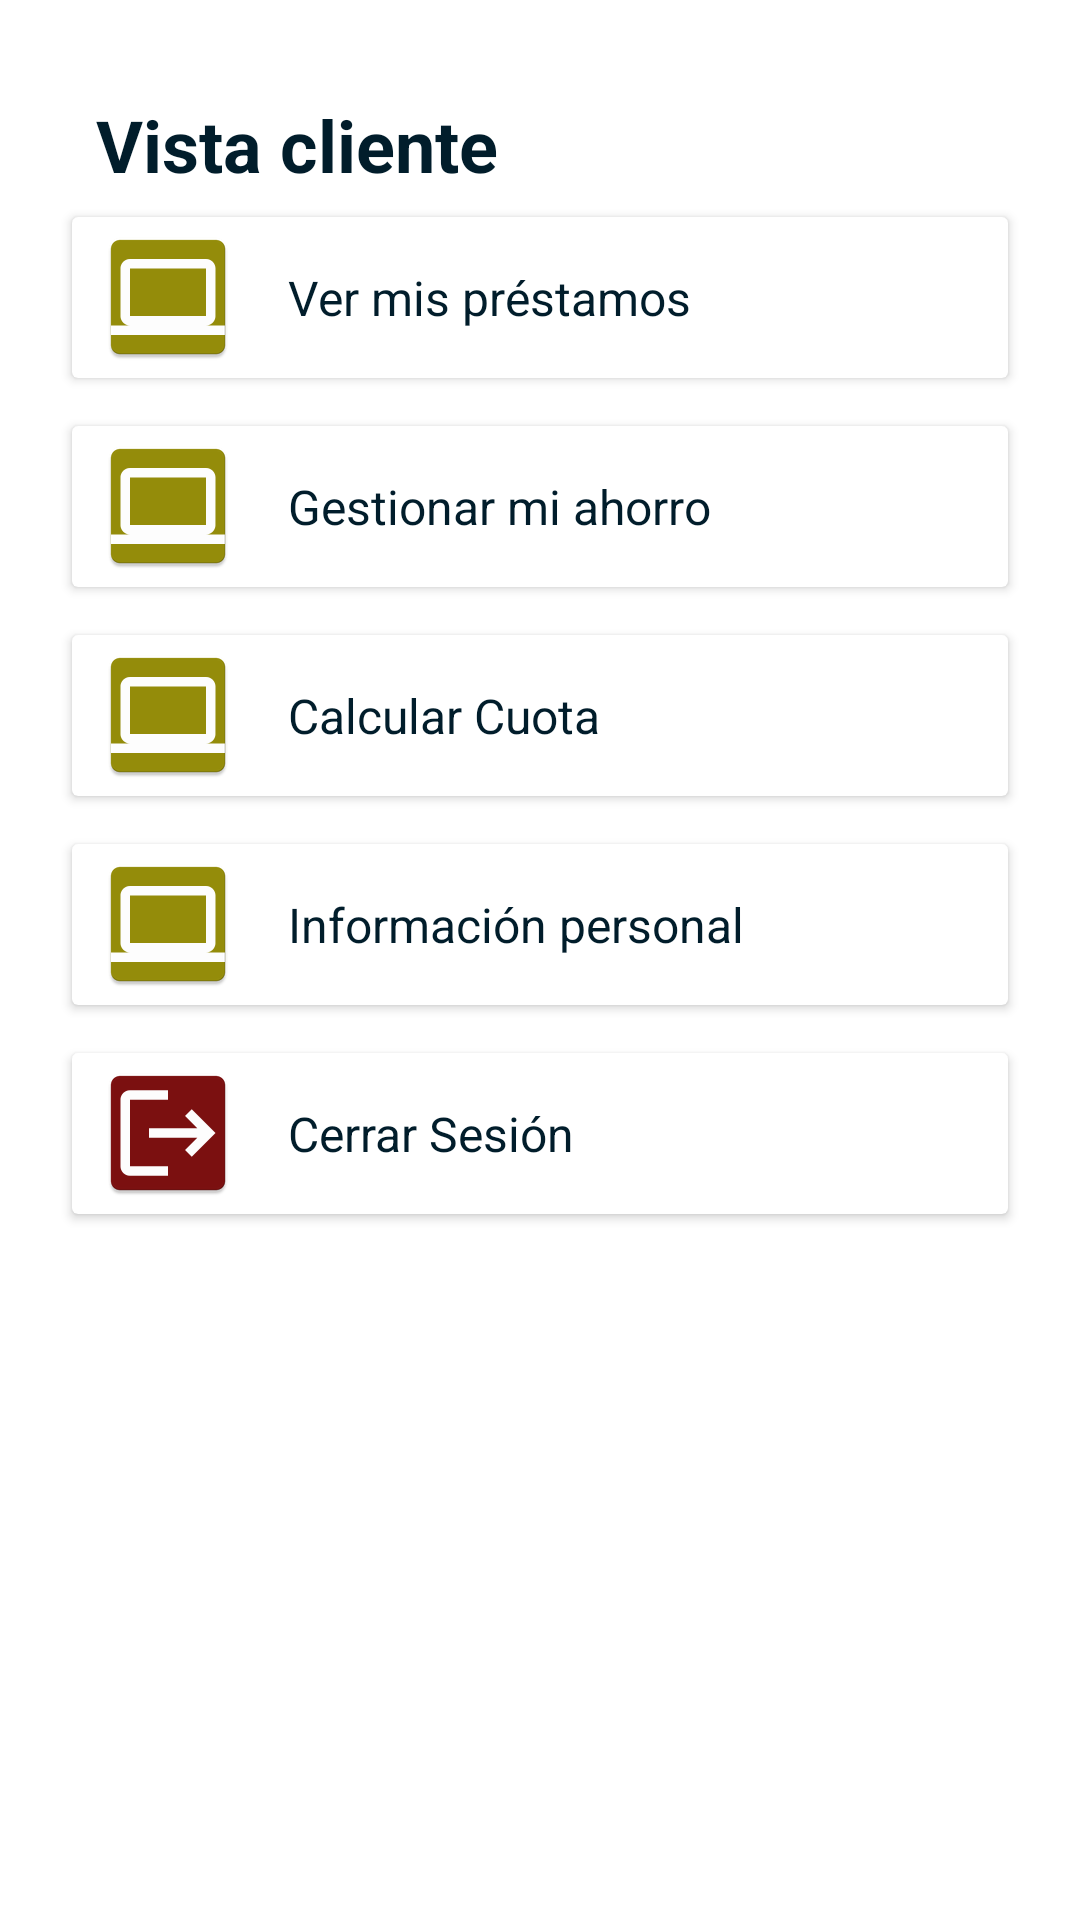

Where icons sit on this 1080px x 1920px app screen, as (x1, y1, x2, y2):
option pc: (110, 239, 226, 358), (110, 448, 226, 567), (110, 657, 226, 776), (110, 866, 226, 985)
